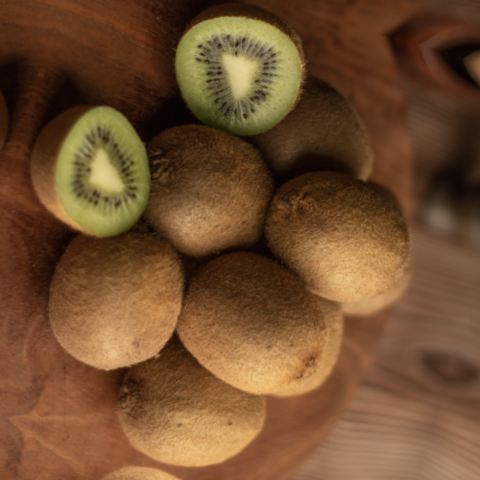kiwi: (30, 189, 208, 401), (165, 223, 356, 416), (112, 91, 297, 279), (253, 145, 440, 324), (87, 324, 282, 480)
